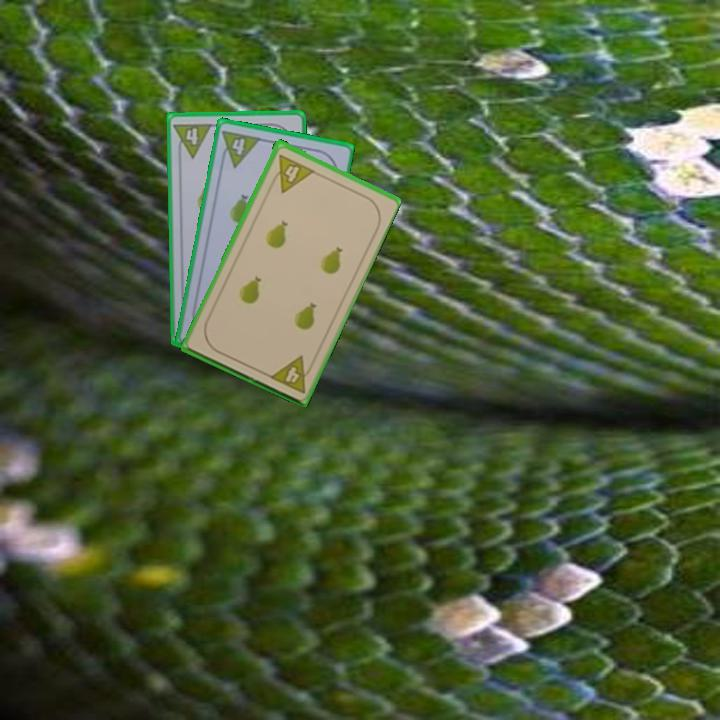4p: (266, 351, 317, 396), (266, 150, 316, 195), (216, 127, 263, 170), (170, 120, 215, 161)
